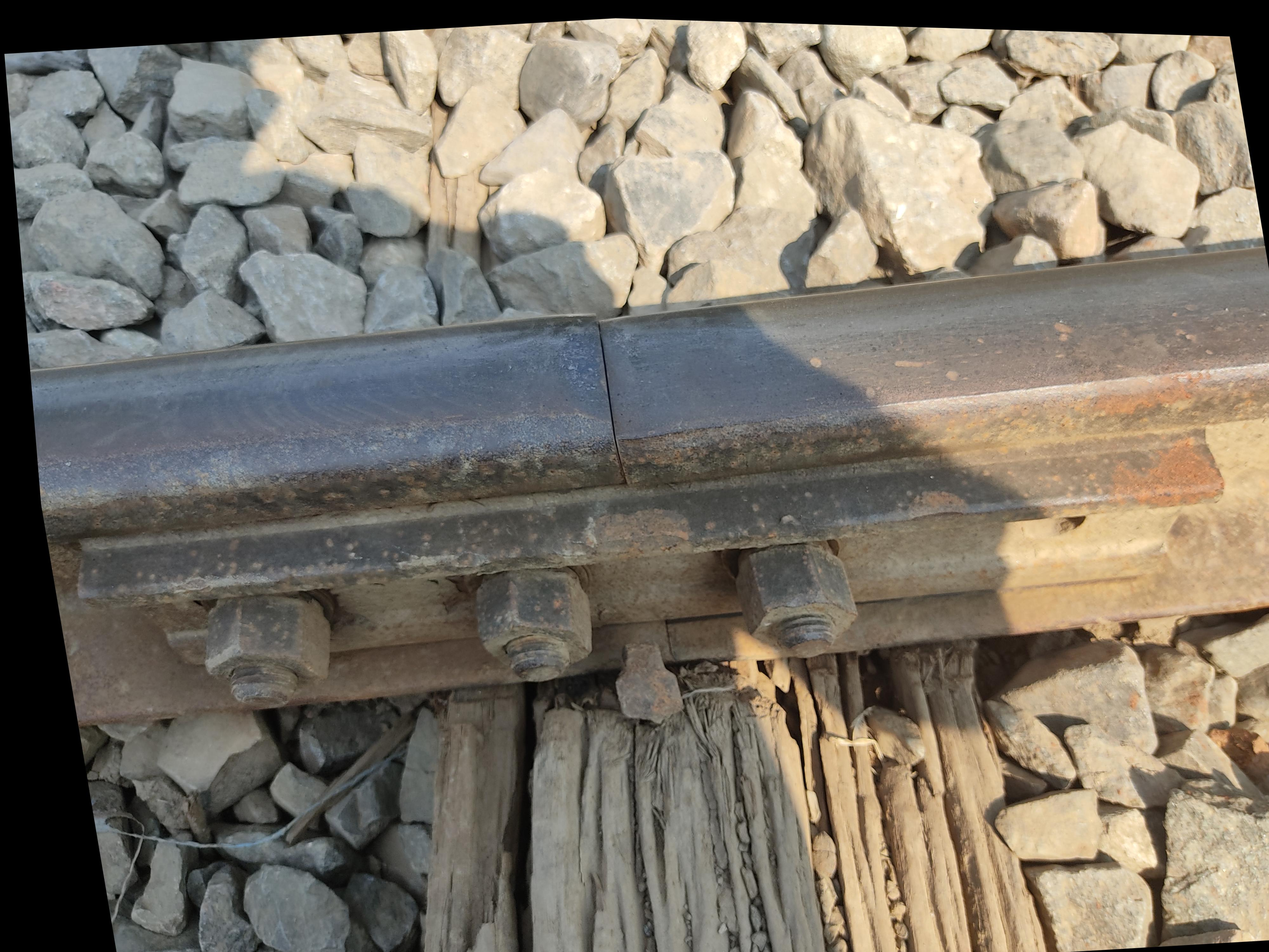person: (405, 301, 734, 602)
